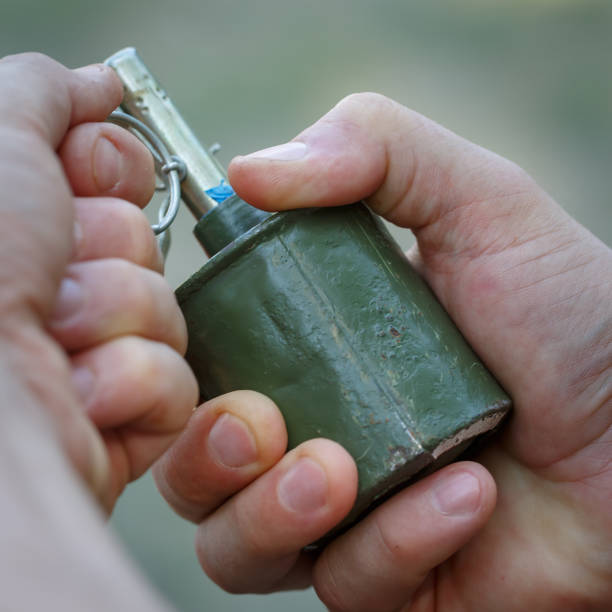e1: (93, 46, 509, 506)
